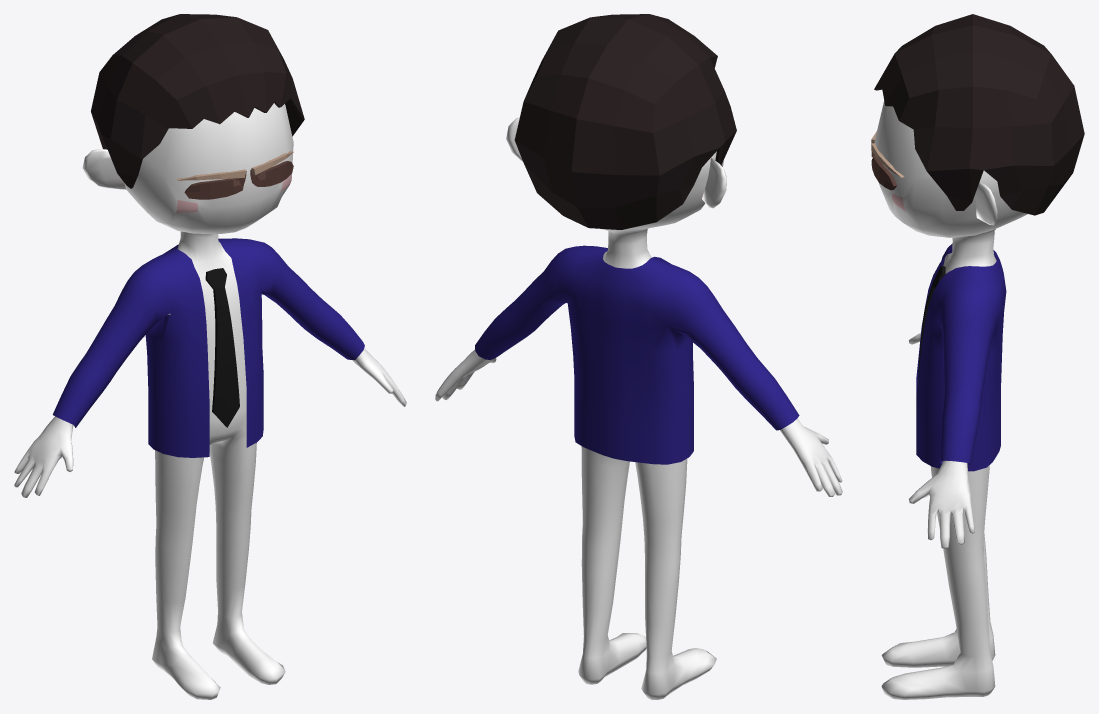
The model's file is Simon.fbx.
3 renders of one model, left to right at view 1: azimuth 30°, elevation 25°; view 2: azimuth 150°, elevation 25°; view 3: azimuth 270°, elevation 25°, orthographic. The views are drawn at different scales.
Visible parts, largest first — view 1: Simon; view 2: Simon; view 3: Simon.
Boxes of the visible parts, x1=… form: Simon: x1=14, y1=14, x2=406, y2=699; Simon: x1=435, y1=14, x2=842, y2=699; Simon: x1=871, y1=14, x2=1084, y2=699.
Bounding box in the file's own units: 110 × 175 × 51.93.
